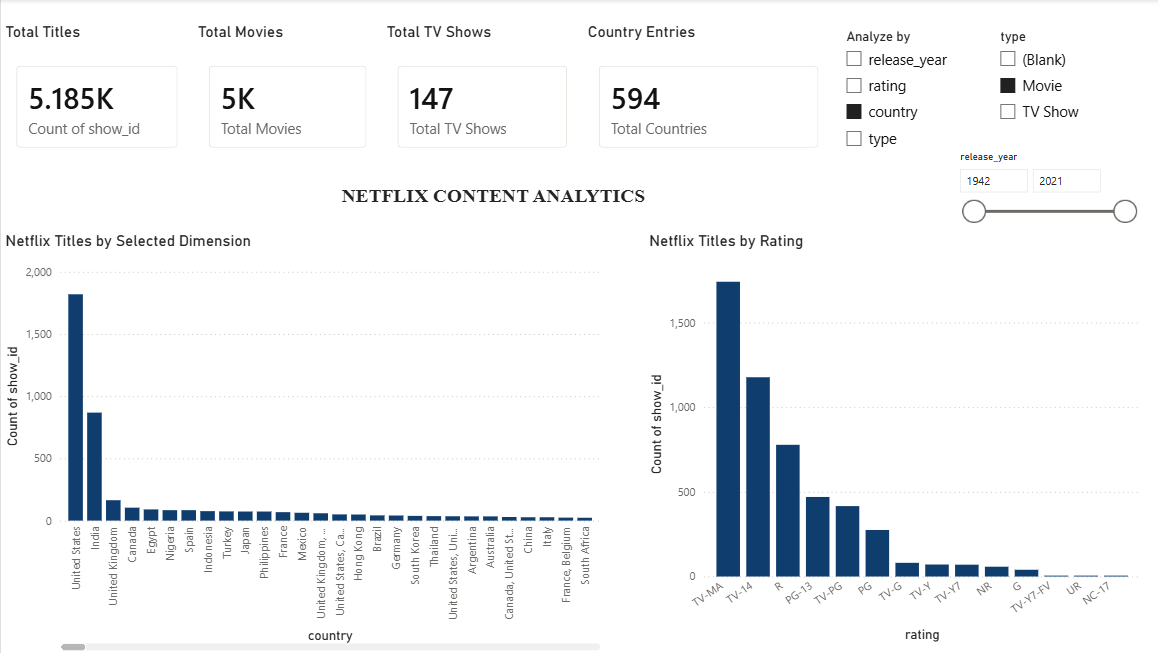

This screenshot's page, from the dashboard's own definition file:
{"tool":"powerbi","page":{"name":"Page 1","canvas":[1280,720],"ordinal":0},"visuals":[{"type":"slicer","fields":{"Values":["netflix_titles (3).type"]},"box":[1084.1,27.4,149.6,134.5],"z":0},{"type":"slicer","fields":{"Values":["Analyze by .Analyze by "]},"box":[915.3,27.4,157.8,153.7],"z":1000},{"type":"clusteredColumnChart","title":"Netflix Titles by Selected Dimension","fields":{"Category":["netflix_titles (3).release_year"],"Y":["CountNonNull(netflix_titles (3).show_id)"]},"box":[0,255.2,662.8,465.2],"z":2000},{"type":"cardVisual","title":"Total Titles ","fields":{"Data":["Count(netflix_titles (3).show_id)"]},"box":[0,26.1,211.3,155.1],"z":3000},{"type":"cardVisual","title":"Total Movies","fields":{"Data":["Analyze by .Total Movies"]},"box":[211.3,26.1,207.2,155.1],"z":4000},{"type":"cardVisual","title":"Total TV Shows","fields":{"Data":["Analyze by .Total TV Shows"]},"box":[418.5,26.1,220.9,155.1],"z":5000},{"type":"cardVisual","title":"Country Entries ","fields":{"Data":["Analyze by .Total Countries"]},"box":[639.5,26.1,275.8,155.1],"z":6000},{"type":"clusteredColumnChart","title":"Netflix Titles by Rating","fields":{"Category":["netflix_titles (3).rating"],"Y":["Count(netflix_titles (3).show_id)"]},"box":[706.7,255.2,548.9,455.6],"z":7000},{"type":"textbox","box":[100.2,199,881,41.2],"z":7001},{"type":"slicer","fields":{"Values":["netflix_titles (3).release_year"]},"box":[1040.1,161.9,215.4,98.8],"z":7002}]}

Visuals, with their boxes in screenshot pixels (x1, y1, x2, y2), scaled from the page's 1280x720 canvas onto the 1158x653 screenshot:
slicer - netflix_titles (3).type: <region>981, 25, 1116, 147</region>
slicer - Analyze by .Analyze by : <region>828, 25, 971, 164</region>
"Netflix Titles by Selected Dimension" clusteredColumnChart: <region>0, 231, 600, 652</region>
"Total Titles " cardVisual: <region>0, 24, 191, 164</region>
"Total Movies" cardVisual: <region>191, 24, 379, 164</region>
"Total TV Shows" cardVisual: <region>379, 24, 578, 164</region>
"Country Entries " cardVisual: <region>579, 24, 828, 164</region>
"Netflix Titles by Rating" clusteredColumnChart: <region>639, 231, 1136, 645</region>
textbox: <region>91, 180, 888, 218</region>
slicer - netflix_titles (3).release_year: <region>941, 147, 1136, 236</region>
